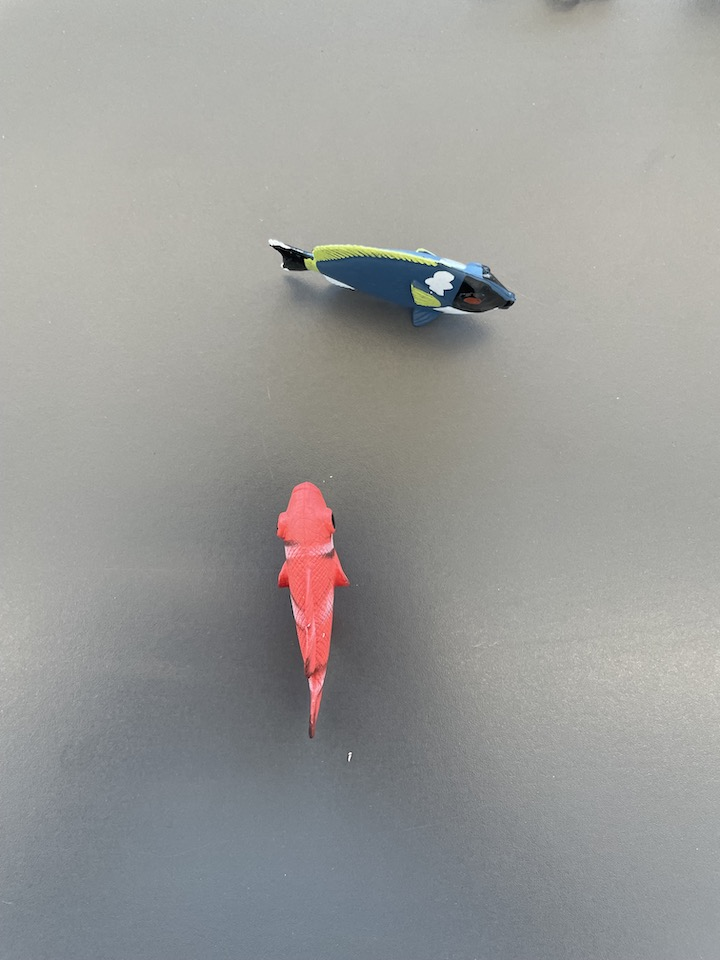fish: (260, 232, 522, 327), (271, 477, 352, 740)
